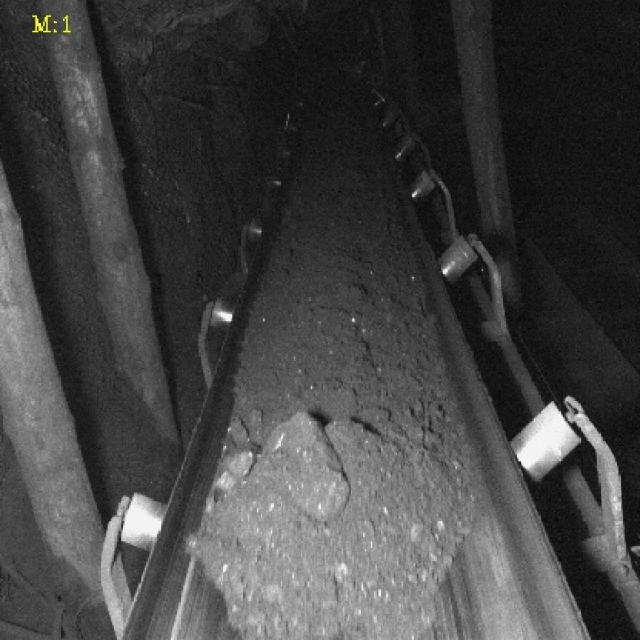large_sized_coal: (182, 412, 412, 640)
